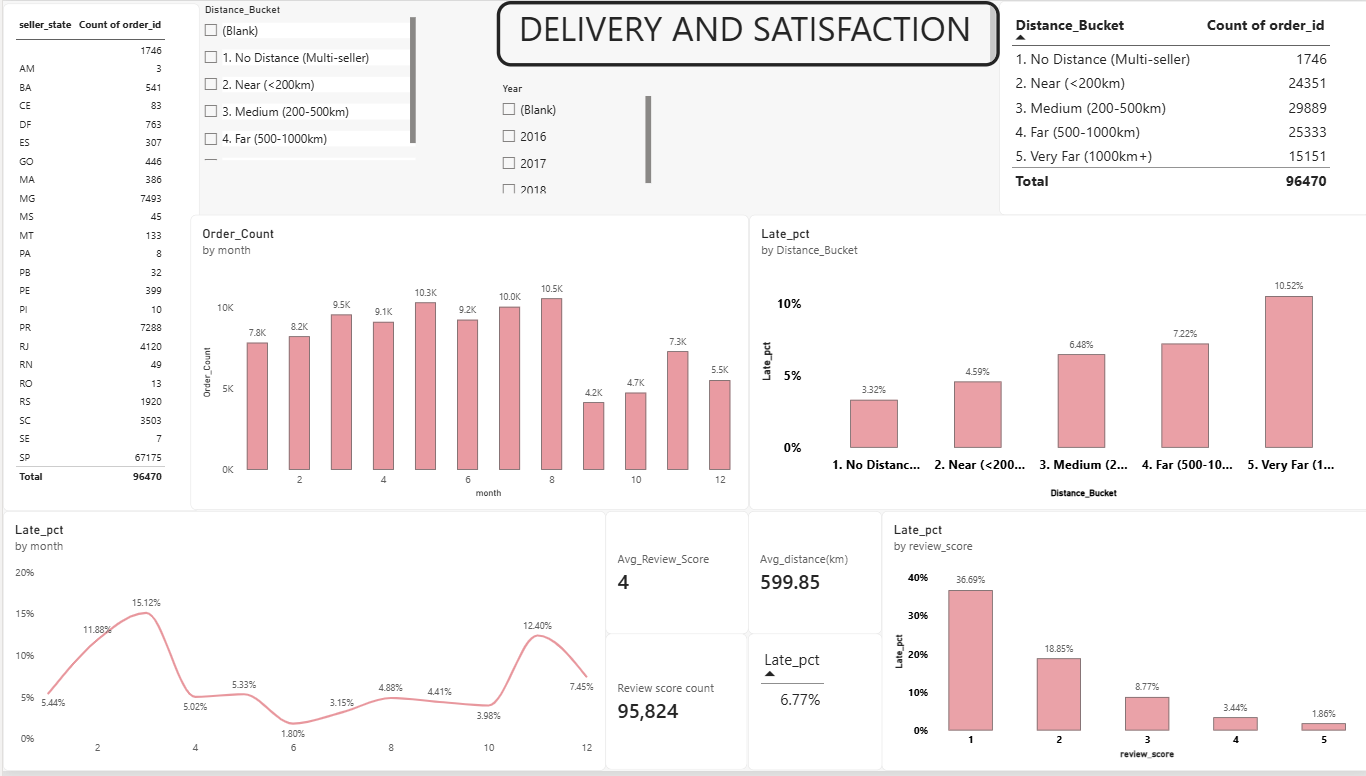

The dashboard page shown, as its layout file describes it:
{"tool":"powerbi","page":{"name":"Page 1","canvas":[1920,1080],"ordinal":0},"visuals":[{"type":"tableEx","fields":{"Values":["dim_seller.seller_state","fact_orders.order_id"]},"box":[0,0,282.1,696.8],"z":0},{"type":"tableEx","fields":{"Values":["fact_orders.Late Percentage"]},"box":[282.1,525.3,257.9,171.6],"z":1},{"type":"cardVisual","fields":{"Data":["fact_orders.Review score count"]},"box":[282.1,0,257.9,181.1],"z":2},{"type":"cardVisual","fields":{"Data":["fact_orders.Avg_Review_Score"]},"box":[282.1,181.1,257.9,167.4],"z":3},{"type":"cardVisual","fields":{"Data":["fact_orders.Avg_distance(km)"]},"box":[282.1,348.4,257.9,176.8],"z":4},{"type":"tableEx","fields":{"Values":["fact_orders.Distance_Bucket","fact_orders.order_id"]},"box":[540,0,472.6,348.4],"z":5}]}

Visuals, with their boxes in screenshot pixels (x1, y1, x2, y2), scaled from the page's 1920x1080 canvas onto the 1366x776 screenshot:
tableEx - dim_seller.seller_state x fact_orders.order_id: [x1=0, y1=0, x2=201, y2=501]
tableEx - fact_orders.Late Percentage: [x1=201, y1=377, x2=384, y2=501]
cardVisual - fact_orders.Review score count: [x1=201, y1=0, x2=384, y2=130]
cardVisual - fact_orders.Avg_Review_Score: [x1=201, y1=130, x2=384, y2=250]
cardVisual - fact_orders.Avg_distance(km): [x1=201, y1=250, x2=384, y2=377]
tableEx - fact_orders.Distance_Bucket x fact_orders.order_id: [x1=384, y1=0, x2=720, y2=250]
